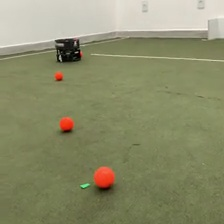ball: (93, 164, 116, 191), (58, 115, 74, 134), (55, 69, 64, 81)
robot: (54, 36, 83, 62)
